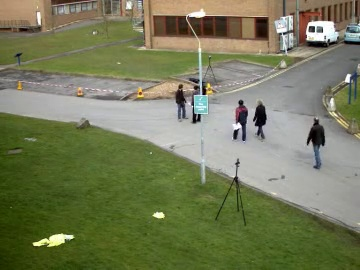person: (173, 81, 192, 119), (174, 83, 192, 121), (174, 83, 191, 120)
